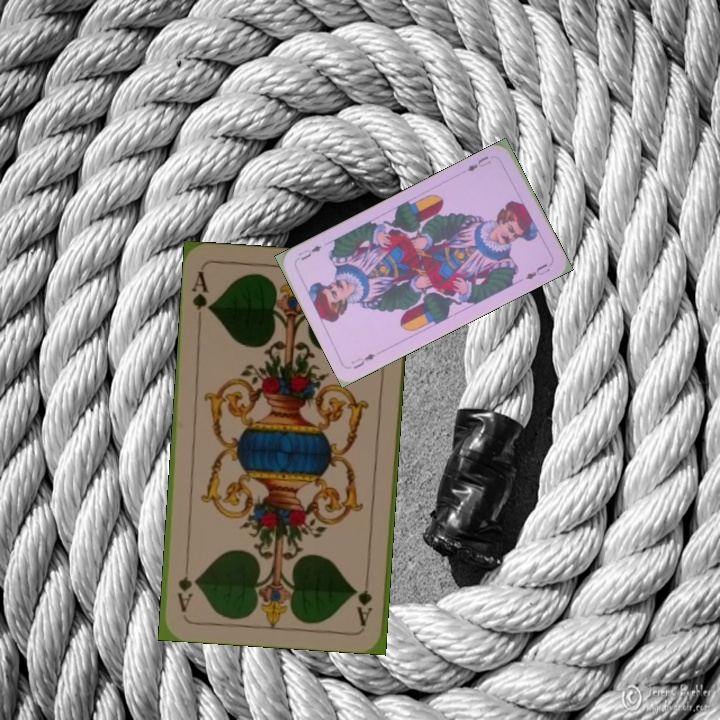EU: (460, 152, 493, 175), (347, 349, 378, 372)
GA: (188, 266, 214, 326), (353, 568, 375, 627)
